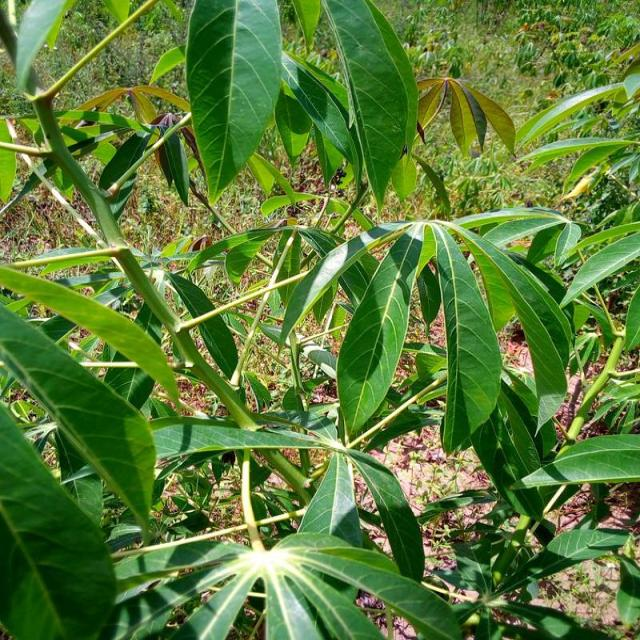cassava leaf: (0, 301, 157, 541), (321, 0, 419, 208), (184, 0, 282, 205)
